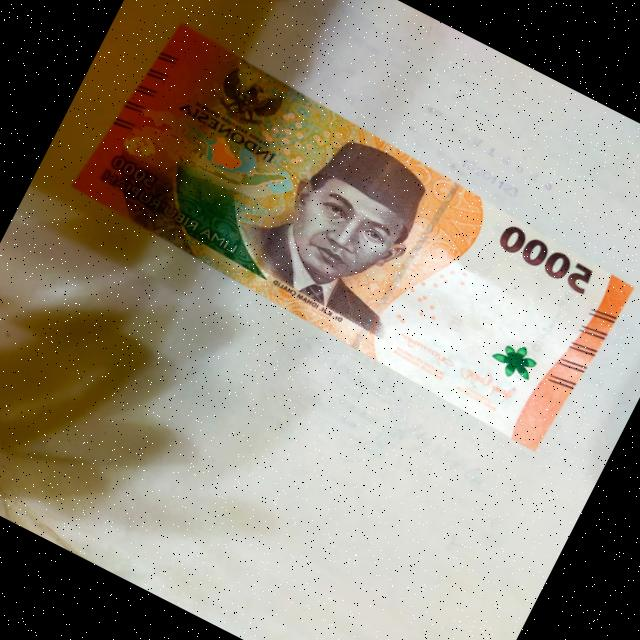5K: (57, 4, 640, 475)
